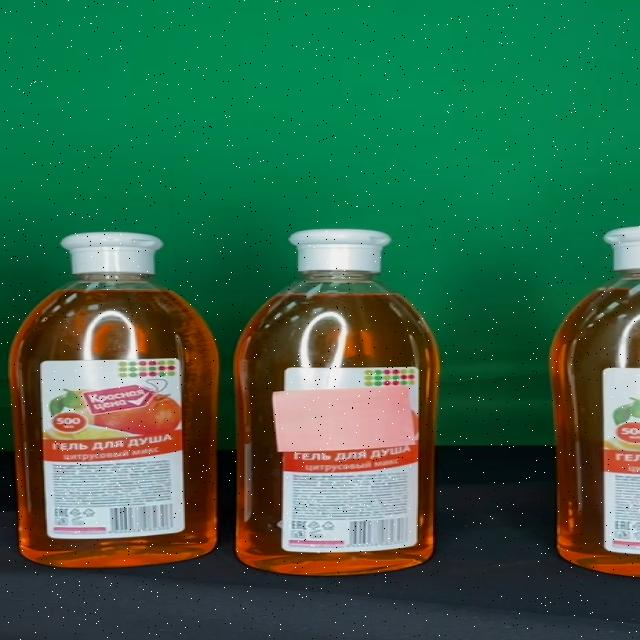Bottle: (234, 230, 442, 576), (10, 232, 221, 568)
Cap: (288, 230, 391, 273), (60, 232, 163, 274)
